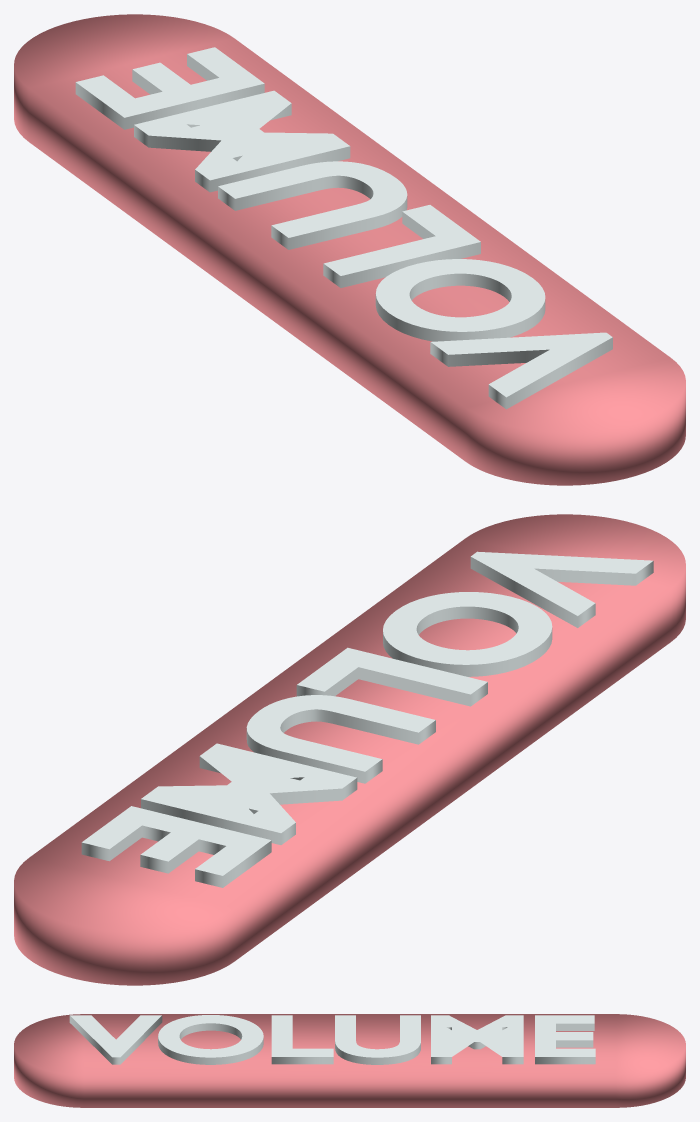
The model's file is volume.fbx.
The picture shows the model from 3 angles, top to bottom: view 1: azimuth 30°, elevation 25°; view 2: azimuth 150°, elevation 25°; view 3: azimuth 270°, elevation 25°; orthographic projection. The views are drawn at different scales.
Visible parts, largest first — view 1: obj_0.008, t.004; view 2: obj_0.008, t.004; view 3: obj_0.008, t.004.
Boxes of the visible parts, left/top/right/bottom form: obj_0.008: left=14, top=14, right=685, bottom=485; t.004: left=75, top=47, right=612, bottom=409; obj_0.008: left=14, top=514, right=685, bottom=985; t.004: left=81, top=551, right=653, bottom=887; obj_0.008: left=14, top=1014, right=685, bottom=1107; t.004: left=69, top=1015, right=595, bottom=1064.
Size of the model in its own units: 187 by 57.3 by 871.
